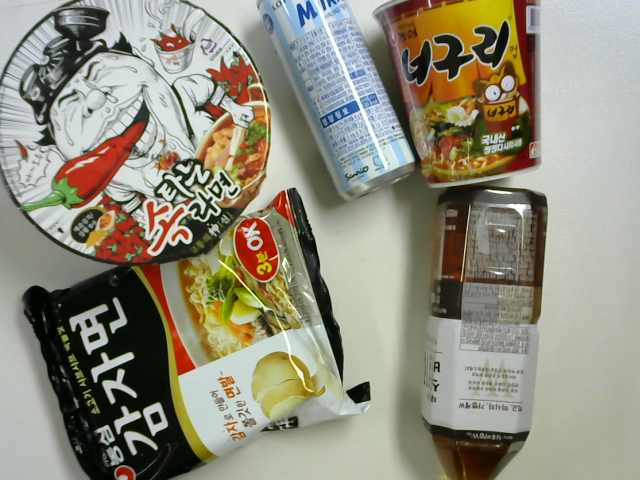HeJangsock: (1, 6, 269, 256)
Milkies_250ml: (259, 1, 419, 198)
Post-meal_recipe_W_tea_500ml: (421, 192, 549, 480)
Potato: (17, 192, 376, 480)
Raccoon: (373, 1, 555, 188)
